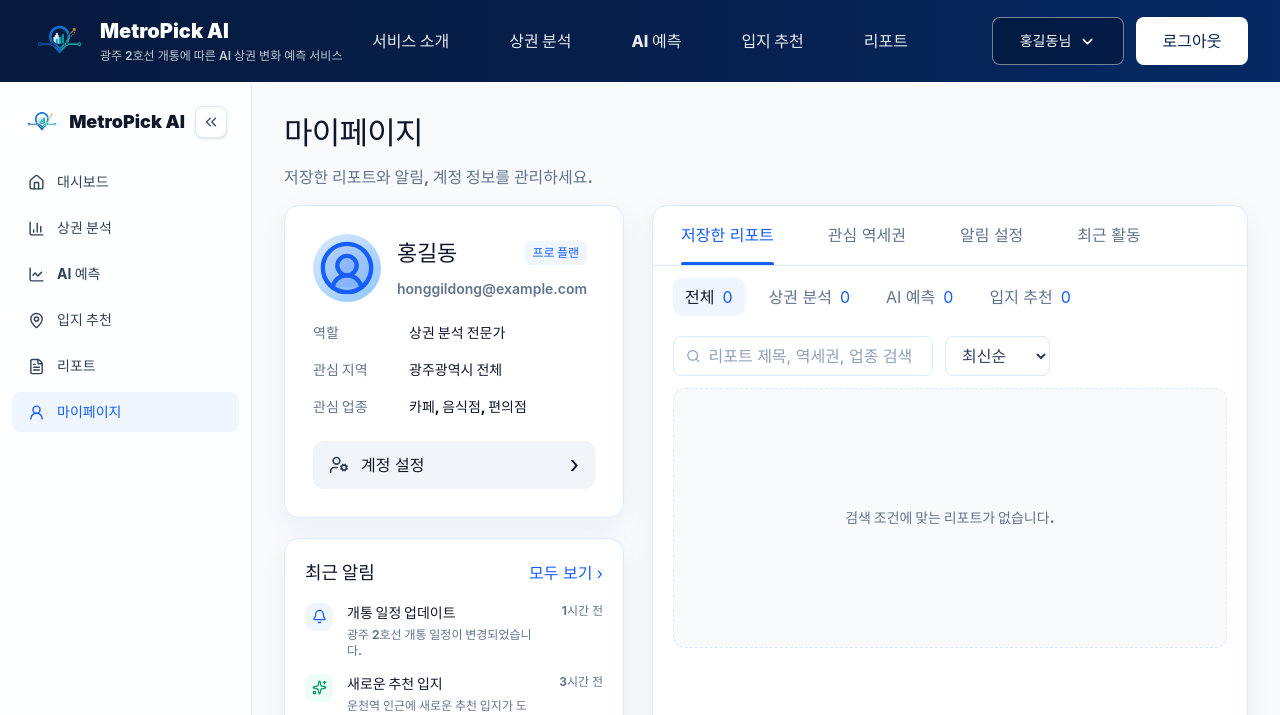
Scenario: MyPage › falls back to localStorage interest locations when backend fails
Click the tab "관심 역세권": (867, 235) [828,205,906,265]
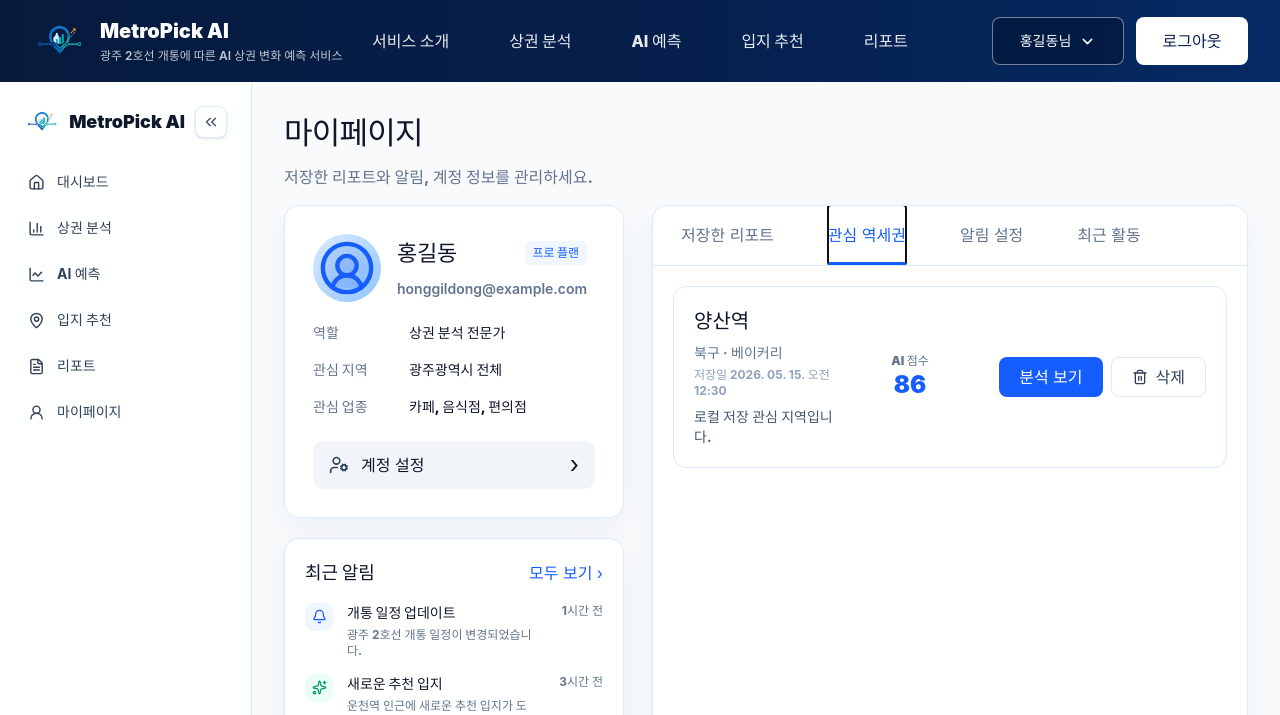
Expected: the heading "양산역" is shown, [694,308,749,332]
Expected: the text "북구 · 베이커리" is shown, [694,344,783,360]
Expected: the text "로컬 저장 관심 지역입니다." is shown, [694,406,834,446]
